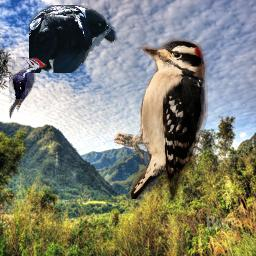Crow: (29, 5, 117, 73)
Woodpecker: (112, 36, 208, 199), (9, 57, 47, 119)
